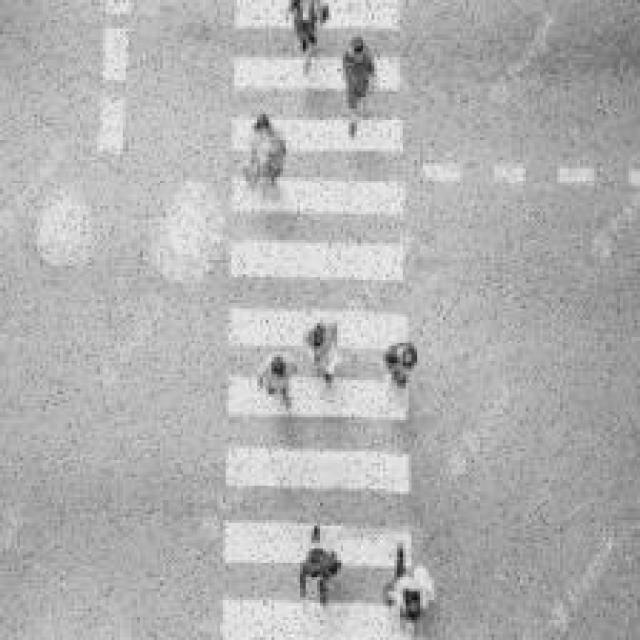walk-crossing: (216, 0, 441, 637)
